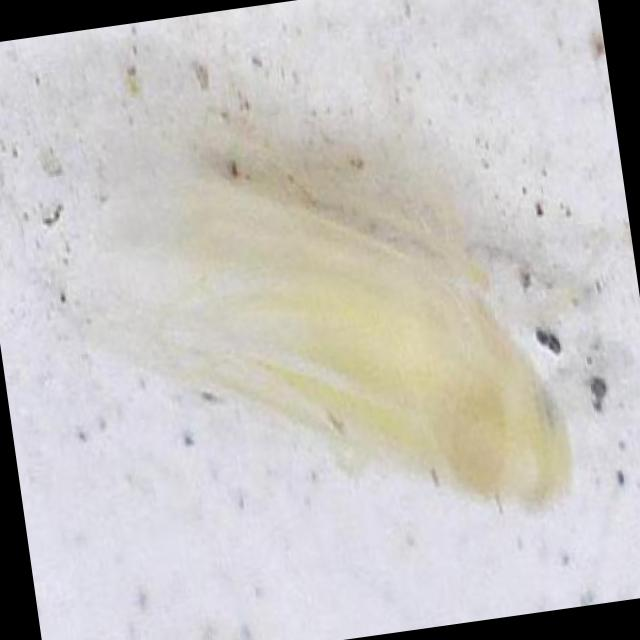green-leafhopper: (65, 105, 580, 573)
